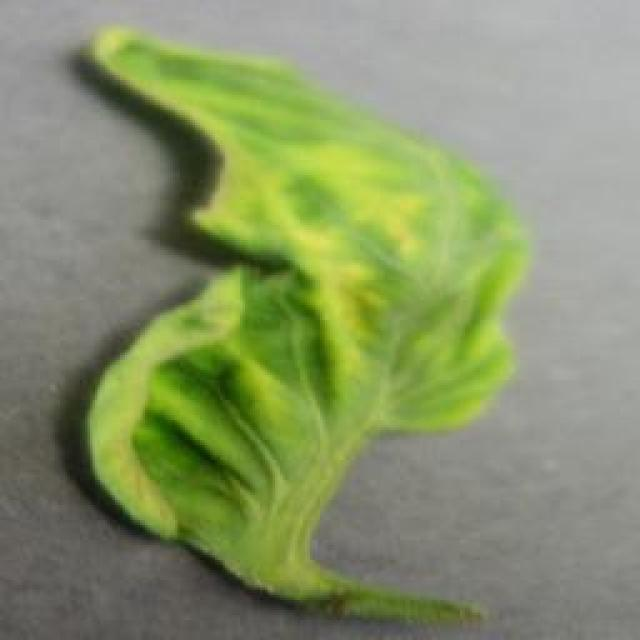Tom_Yellow_Leaf_Curl_Virus: (160, 50, 468, 539)
